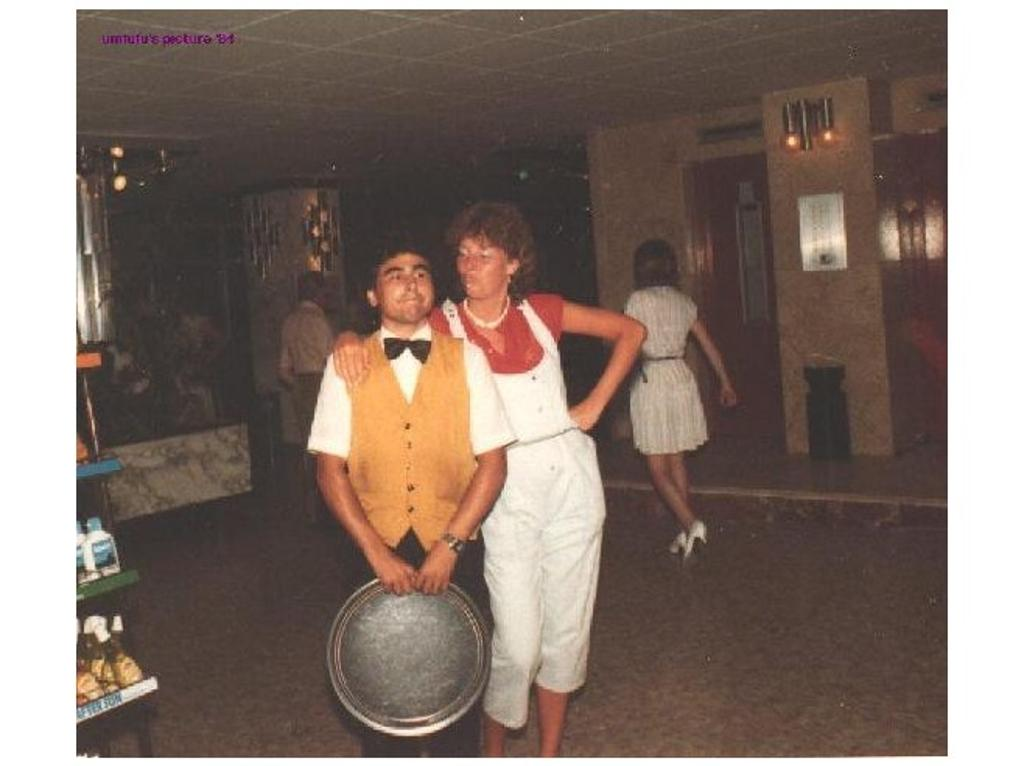face: (376, 238, 446, 324), (454, 220, 508, 296)
